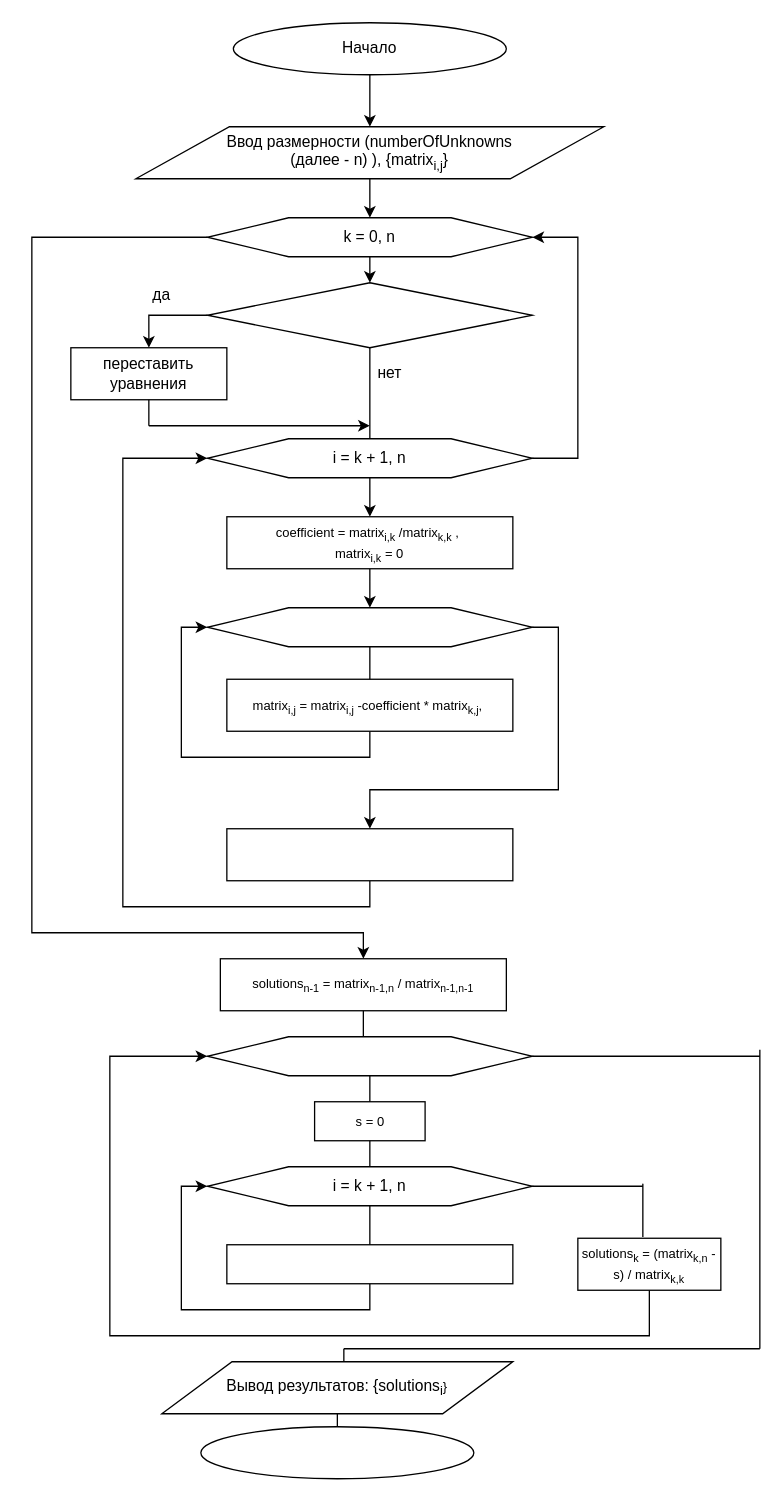
This 784x1502 diagram has some shape labels left out. Here are the shapes that lost their labels. From the top down, the box of each, then its label:
(206, 281, 532, 348): matrix k,k = 0
(206, 606, 532, 647): j = i + 1, n
(226, 827, 513, 881): matrix i,k+1 = matrix i,k+1 - coefficient * matrix k,k+1
(206, 1035, 532, 1076): k = n - 2, 0, -1
(226, 1243, 513, 1284): s = s + matrix k,i * solutions k
(200, 1425, 474, 1479): Конец
